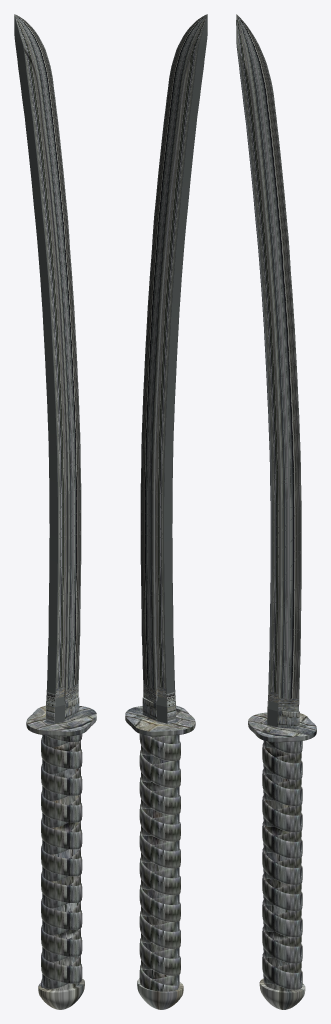
The model's file is blade.obj.
The picture shows the model from 3 angles, left to right: view 1: azimuth 30°, elevation 25°; view 2: azimuth 150°, elevation 25°; view 3: azimuth 330°, elevation 25°; orthographic projection. The views are drawn at different scales.
Parts seen in each view (by area): view 1: blade_Plane.001, strip2_Plane.003, lights_Plane.004, strip1_Plane.002, handle_Cylinder, target_Cylinder.001; view 2: blade_Plane.001, strip2_Plane.003, lights_Plane.004, strip1_Plane.002, handle_Cylinder, target_Cylinder.001; view 3: blade_Plane.001, strip2_Plane.003, lights_Plane.004, strip1_Plane.002, handle_Cylinder, target_Cylinder.001.
Part boxes in pixels (x1,y1,x2,y2): blade_Plane.001: (14, 14, 81, 723); strip2_Plane.003: (41, 734, 82, 987); lights_Plane.004: (24, 52, 66, 698); strip1_Plane.002: (42, 735, 80, 989); handle_Cylinder: (26, 705, 96, 1009); target_Cylinder.001: (45, 741, 80, 990); blade_Plane.001: (140, 14, 207, 723); strip2_Plane.003: (139, 734, 180, 991); lights_Plane.004: (155, 52, 197, 698); strip1_Plane.002: (141, 735, 179, 986); handle_Cylinder: (125, 705, 195, 1009); target_Cylinder.001: (142, 736, 178, 987); blade_Plane.001: (236, 14, 301, 729); strip2_Plane.003: (262, 741, 302, 989); lights_Plane.004: (239, 53, 280, 702); strip1_Plane.002: (263, 740, 301, 983); handle_Cylinder: (248, 712, 316, 1009); target_Cylinder.001: (264, 747, 297, 991).
Size of the model in its own units: 0.0842 by 1.01 by 0.061.
Materials: 1 (1 with a texture image).
